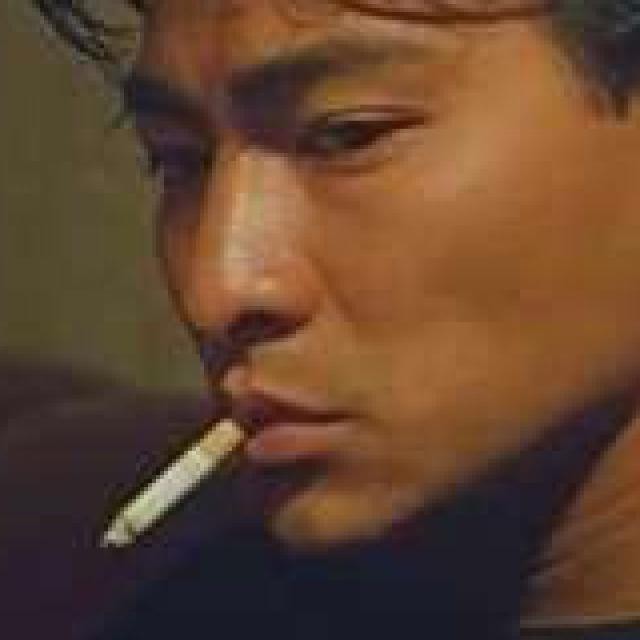smoking: (99, 409, 257, 553)
